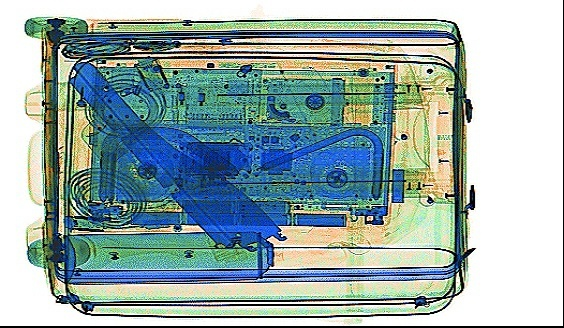pressure: (59, 228, 285, 284), (79, 113, 179, 204)
